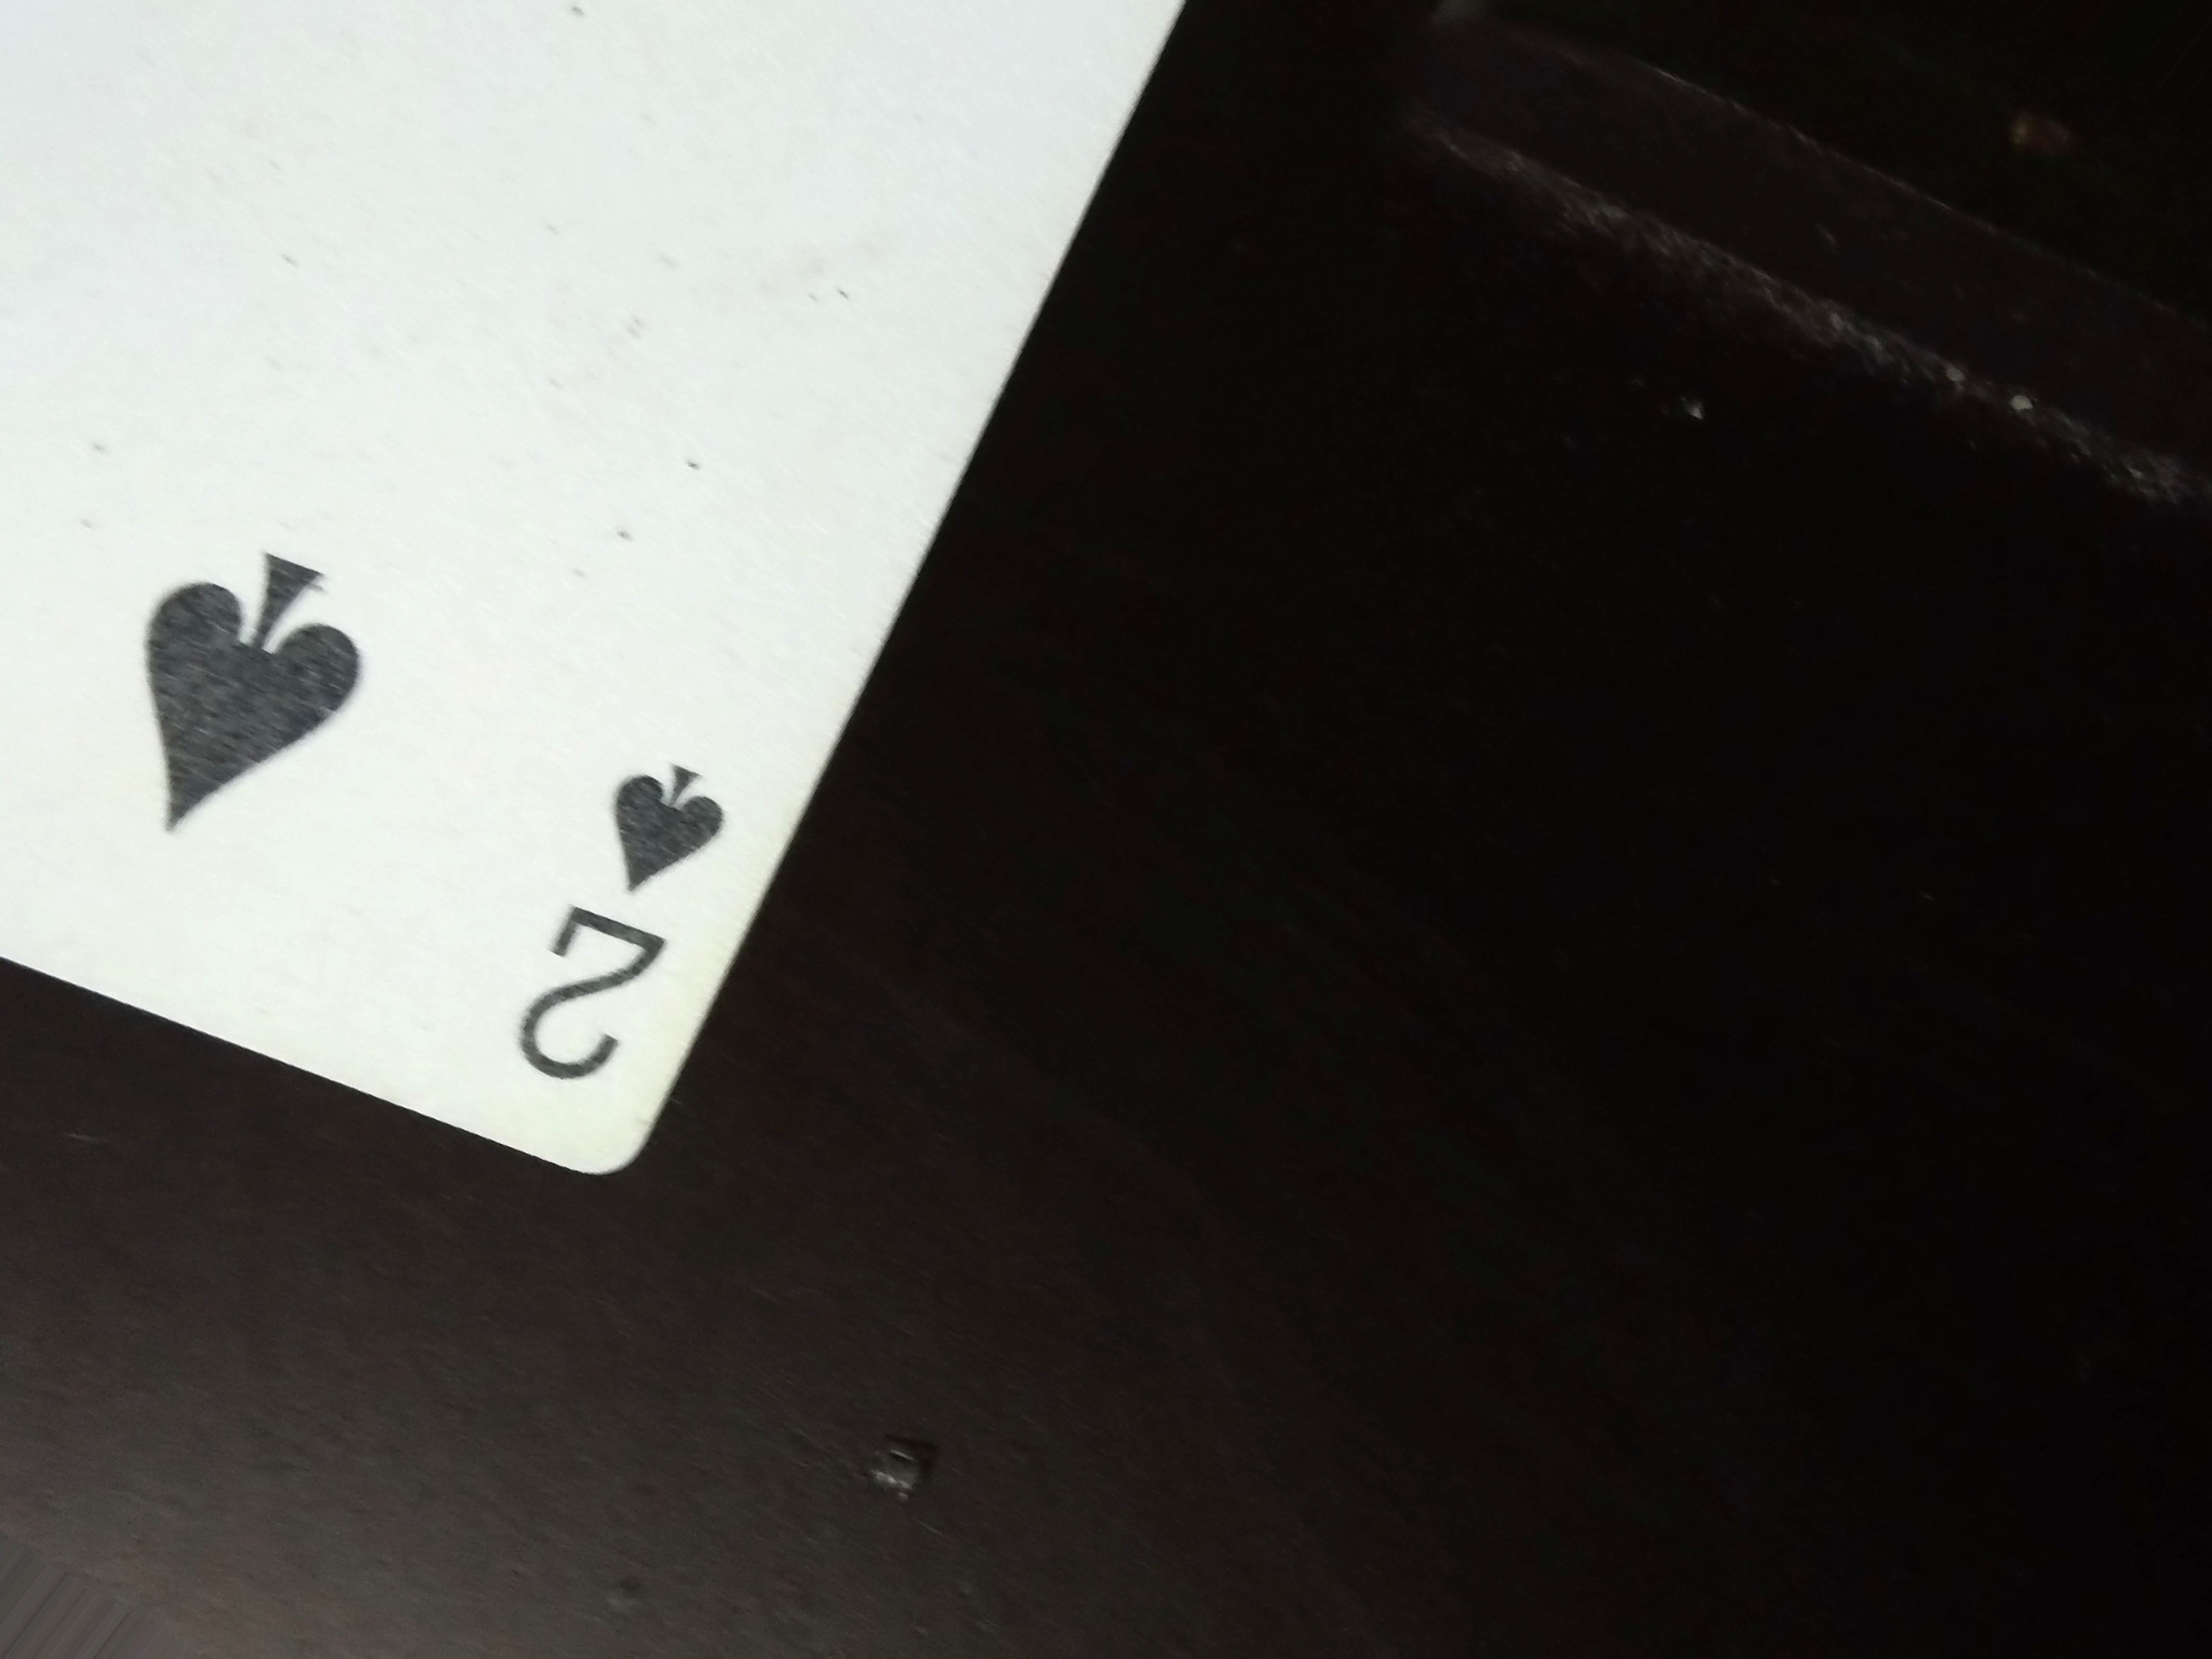2S: (484, 746, 723, 1101)
